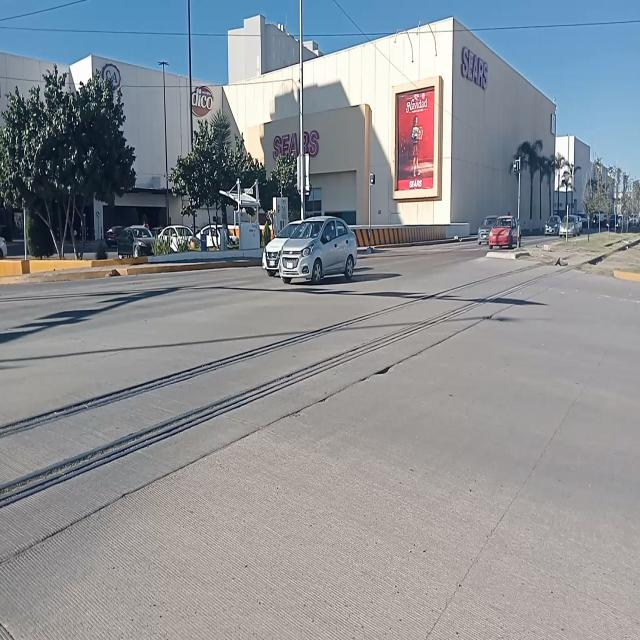Auto: (282, 215, 358, 285)
